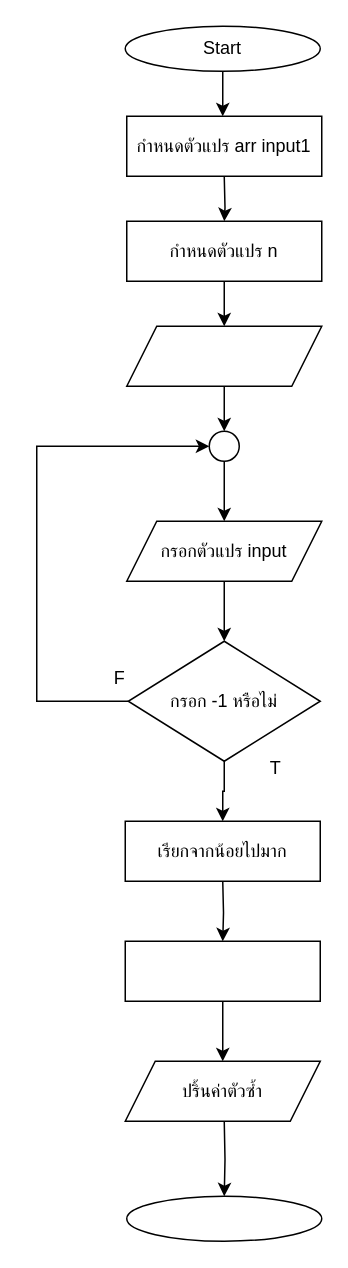
Image size: 348x1268. Some labels were removed from this diagram. Here are the shapes that lost their labels. From the top down, the box of each, then its label:
(125, 325, 322, 386): กรอกจำนวนรอบ (n)
(124, 940, 320, 1001): นับตัวซ้ำ
(125, 1195, 322, 1241): END
